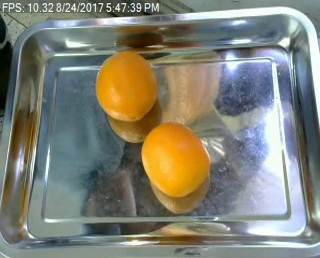Orange: (141, 121, 210, 198), (95, 51, 158, 121)
